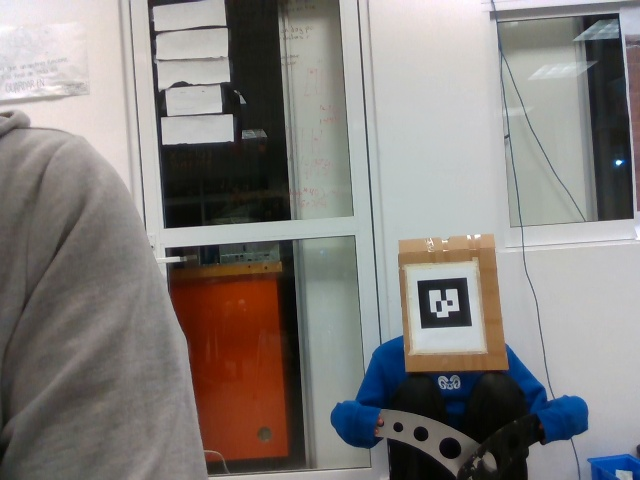ar3: (416, 274, 473, 331)
